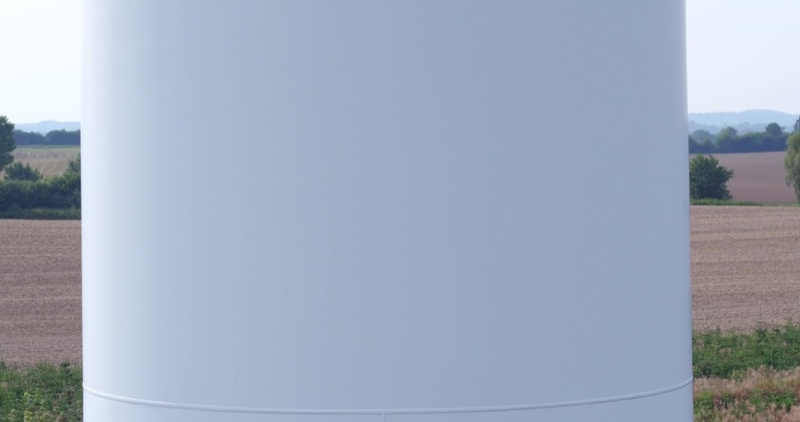weldseam: (78, 373, 695, 419), (376, 404, 391, 422)
